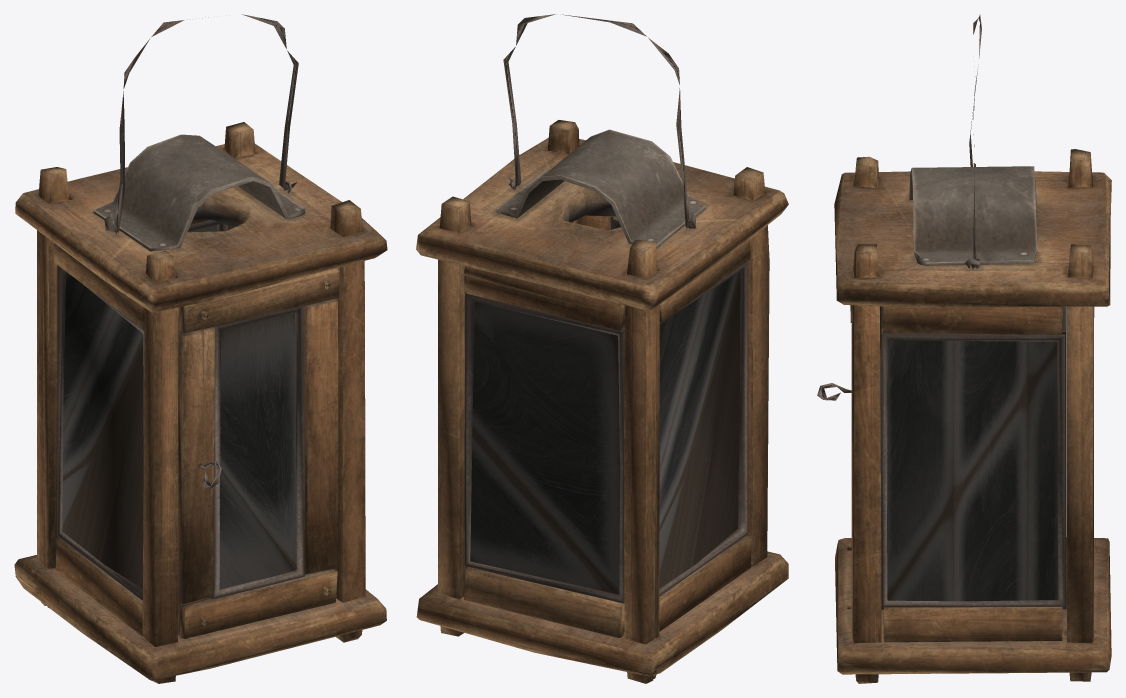
Rendered from wooden_lantern_01_nah.gltf.
3 renders of one model, left to right at view 1: azimuth 30°, elevation 25°; view 2: azimuth 150°, elevation 25°; view 3: azimuth 270°, elevation 25°, orthographic.
Parts seen in each view (by area): view 1: wooden_lantern_01_nah; view 2: wooden_lantern_01_nah; view 3: wooden_lantern_01_nah.
Boxes of the visible parts, <box> form: wooden_lantern_01_nah: <box>14,14,387,683</box>; wooden_lantern_01_nah: <box>416,14,788,683</box>; wooden_lantern_01_nah: <box>817,14,1111,683</box>.
Bounding box in the file's own units: 0.2208 × 0.5278 × 0.2331.
2 materials, 2 textured.
